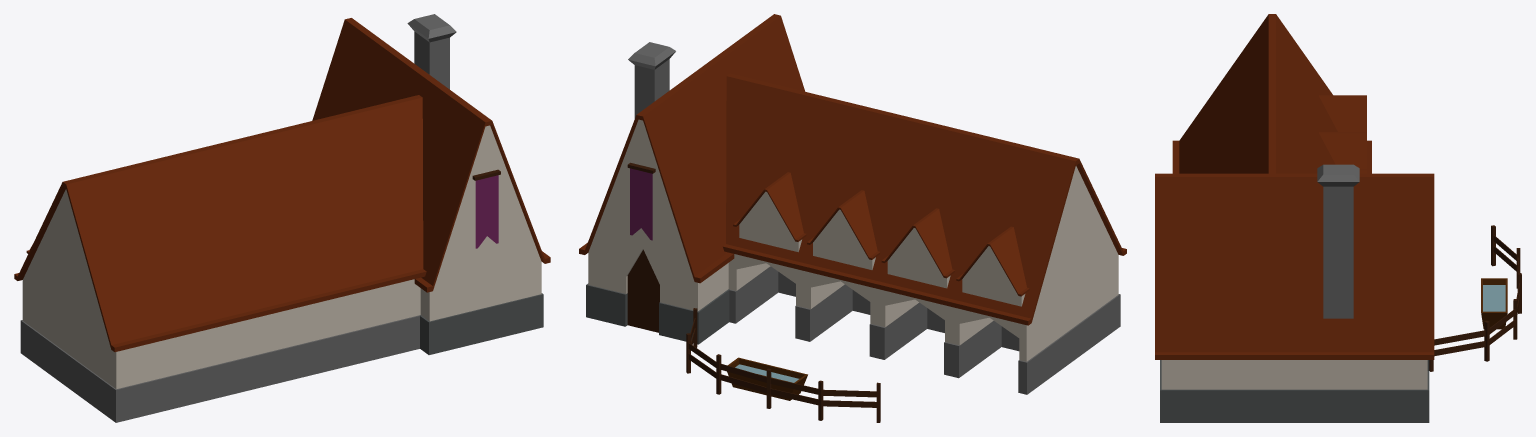
Rendered from Stablesv1.fbx.
3 renders of one model, left to right at view 1: azimuth 30°, elevation 25°; view 2: azimuth 150°, elevation 25°; view 3: azimuth 270°, elevation 25°, orthographic. The views are drawn at different scales.
Visible parts, largest first — view 1: Plane.364; view 2: Plane.364; view 3: Plane.364.
Part boxes in pixels (box(x1,y1,x2,y2)): Plane.364: box(14, 14, 550, 422); Plane.364: box(579, 14, 1126, 422); Plane.364: box(1155, 14, 1521, 422).
Size of the model in its own units: 290 by 160 by 217.
